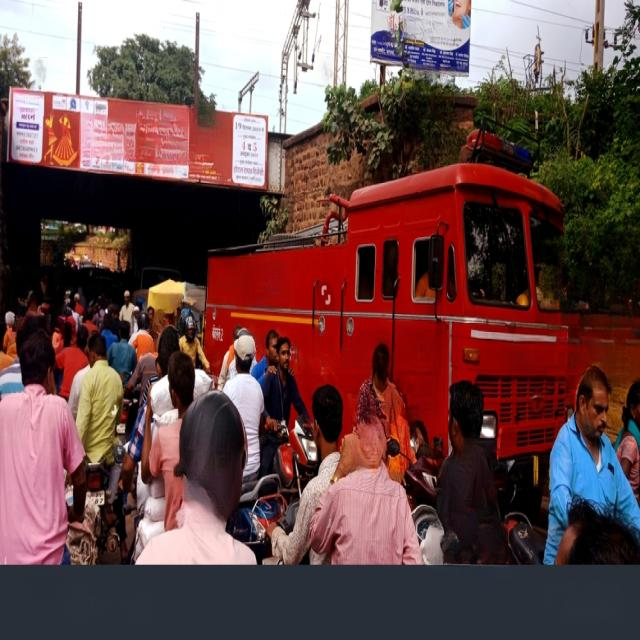emergency: (205, 163, 568, 460)
